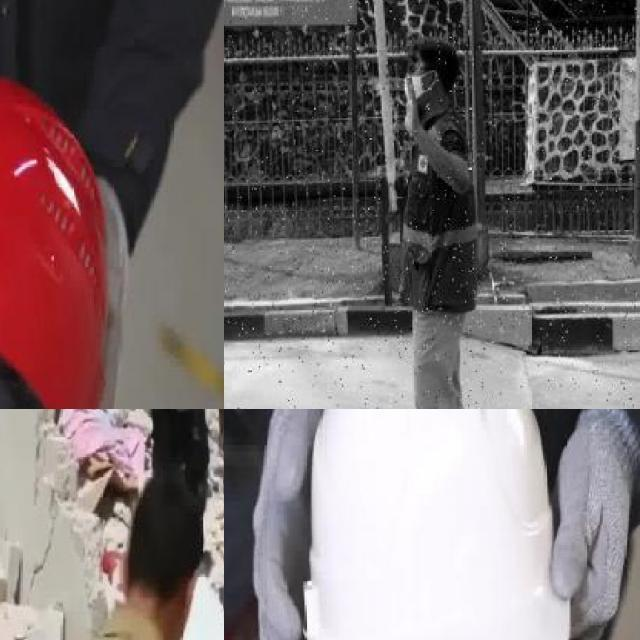apron: (250, 409, 350, 640), (554, 409, 640, 640), (78, 170, 136, 409)
